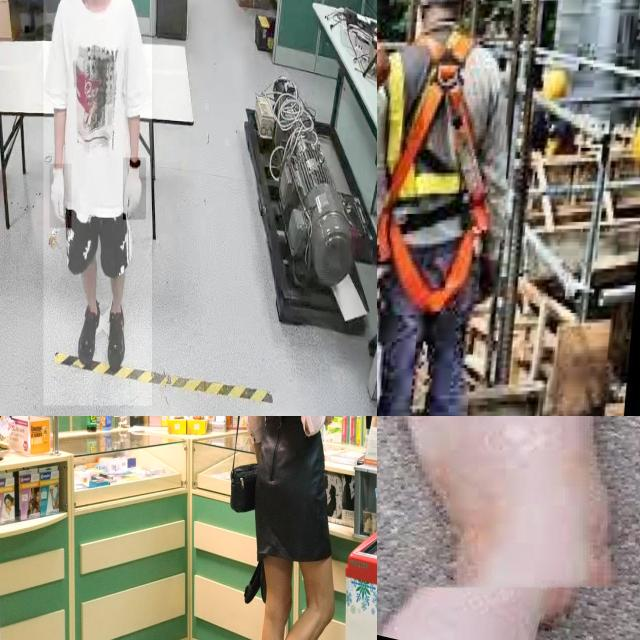Barefoots: (377, 416, 640, 636)
Harness: (378, 27, 495, 312)
hand_glove: (123, 157, 147, 220), (50, 164, 72, 228)
person: (43, 0, 152, 406)
shoes: (76, 293, 102, 363), (105, 304, 128, 374)
